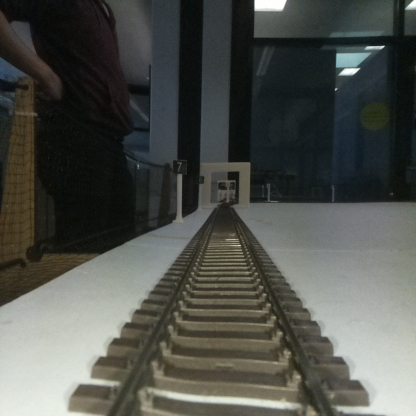black-info-7: (173, 159, 186, 223)
